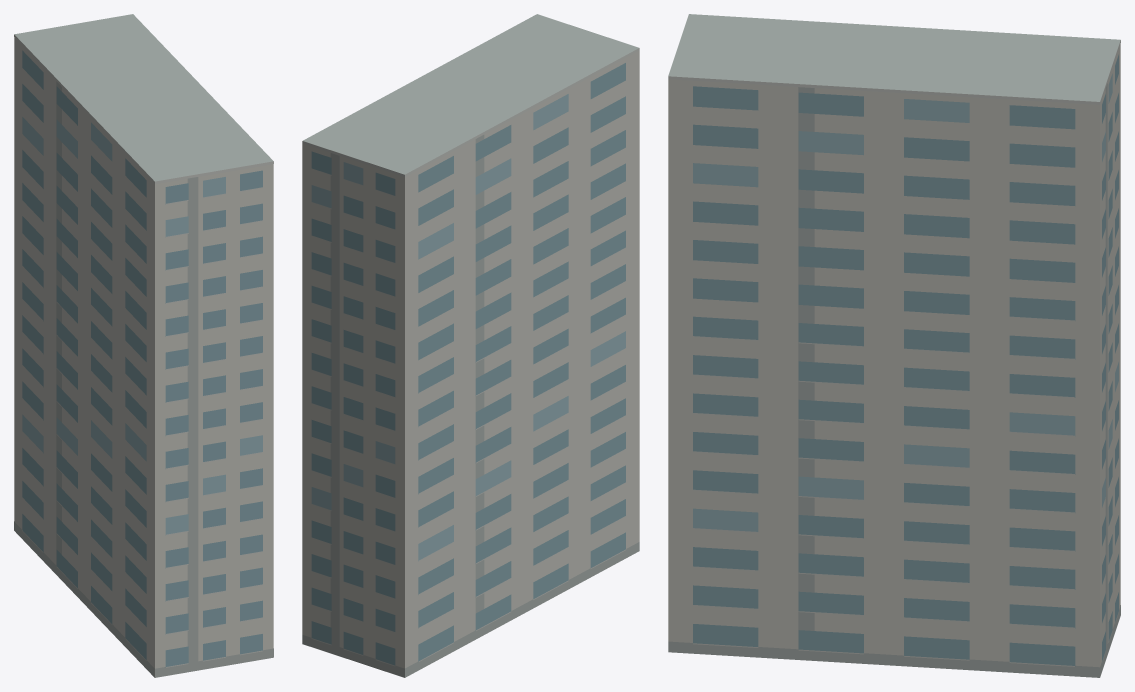
The model's file is residential-a3c51d34-60e3-45c7-9278-4943d6024230.glb.
3 renders of one model, left to right at view 1: azimuth 30°, elevation 25°; view 2: azimuth 150°, elevation 25°; view 3: azimuth 270°, elevation 25°, orthographic. The views are drawn at different scales.
Visible parts, largest first — view 1: residential-a3c51d34-60e3-45c7-9278-4943d6024230.tmp; view 2: residential-a3c51d34-60e3-45c7-9278-4943d6024230.tmp; view 3: residential-a3c51d34-60e3-45c7-9278-4943d6024230.tmp.
Boxes of the visible parts, left/top/right/bottom form: residential-a3c51d34-60e3-45c7-9278-4943d6024230.tmp: left=14, top=14, right=273, bottom=677; residential-a3c51d34-60e3-45c7-9278-4943d6024230.tmp: left=302, top=14, right=639, bottom=677; residential-a3c51d34-60e3-45c7-9278-4943d6024230.tmp: left=668, top=14, right=1120, bottom=677.
Size of the model in its own units: 15.08 by 46 by 32.77.
